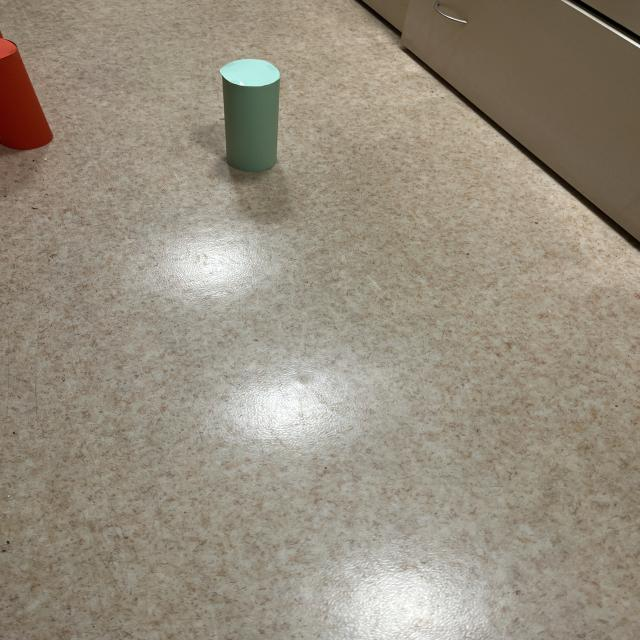meta: (220, 59, 280, 172)
